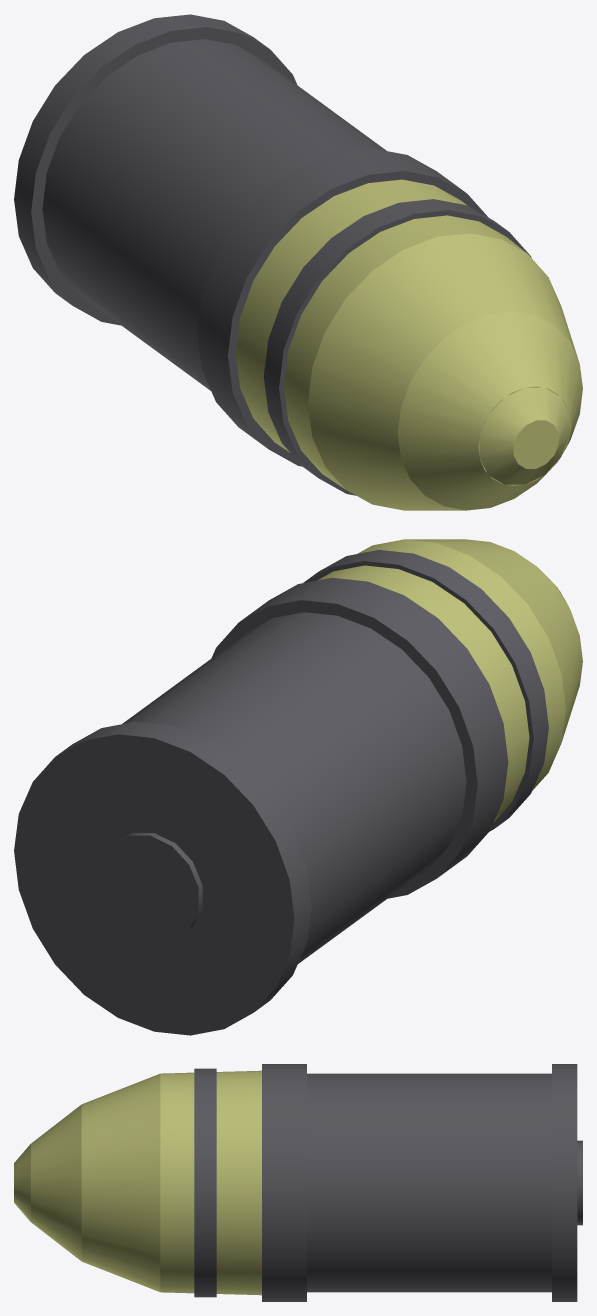
The model's file is Proj_Grenade40.fbx.
3 views of the same model, one above another, from view 1: azimuth 30°, elevation 25°; view 2: azimuth 150°, elevation 25°; view 3: azimuth 270°, elevation 25° (orthographic). The views are drawn at different scales.
Visible parts, largest first — view 1: Proj_Grenade40; view 2: Proj_Grenade40; view 3: Proj_Grenade40.
Part boxes in pixels (x1,y1,x2,y2): Proj_Grenade40: (14,14,582,510); Proj_Grenade40: (14,539,582,1035); Proj_Grenade40: (14,1064,582,1301).
Bounding box in the file's own units: 0.0424 × 0.0424 × 0.101.
